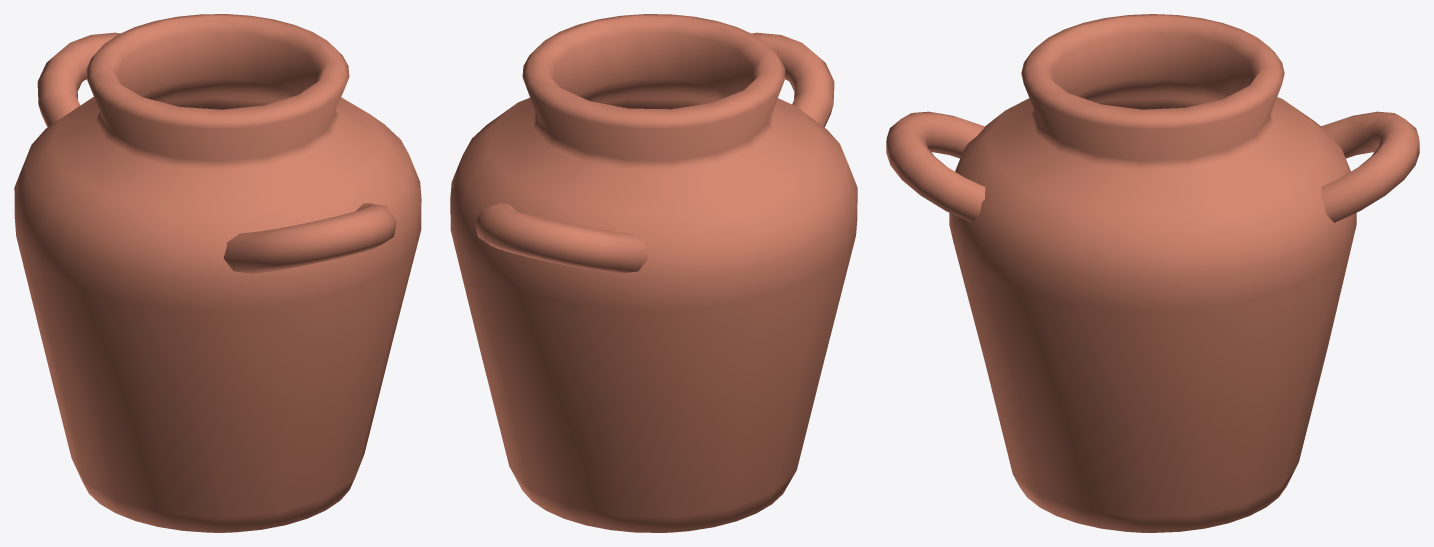
Rendered from ClayPot_04 1.fbx.
The picture shows the model from 3 angles, left to right: view 1: azimuth 30°, elevation 25°; view 2: azimuth 150°, elevation 25°; view 3: azimuth 270°, elevation 25°; orthographic projection.
Parts seen in each view (by area): view 1: ClayPot_04; view 2: ClayPot_04; view 3: ClayPot_04.
Boxes of the visible parts, box(x1,y1,x2,y2) form: ClayPot_04: box(14, 14, 421, 532); ClayPot_04: box(450, 14, 857, 532); ClayPot_04: box(886, 14, 1419, 532).
Size of the model in its own units: 36.53 by 42.08 by 47.77.
